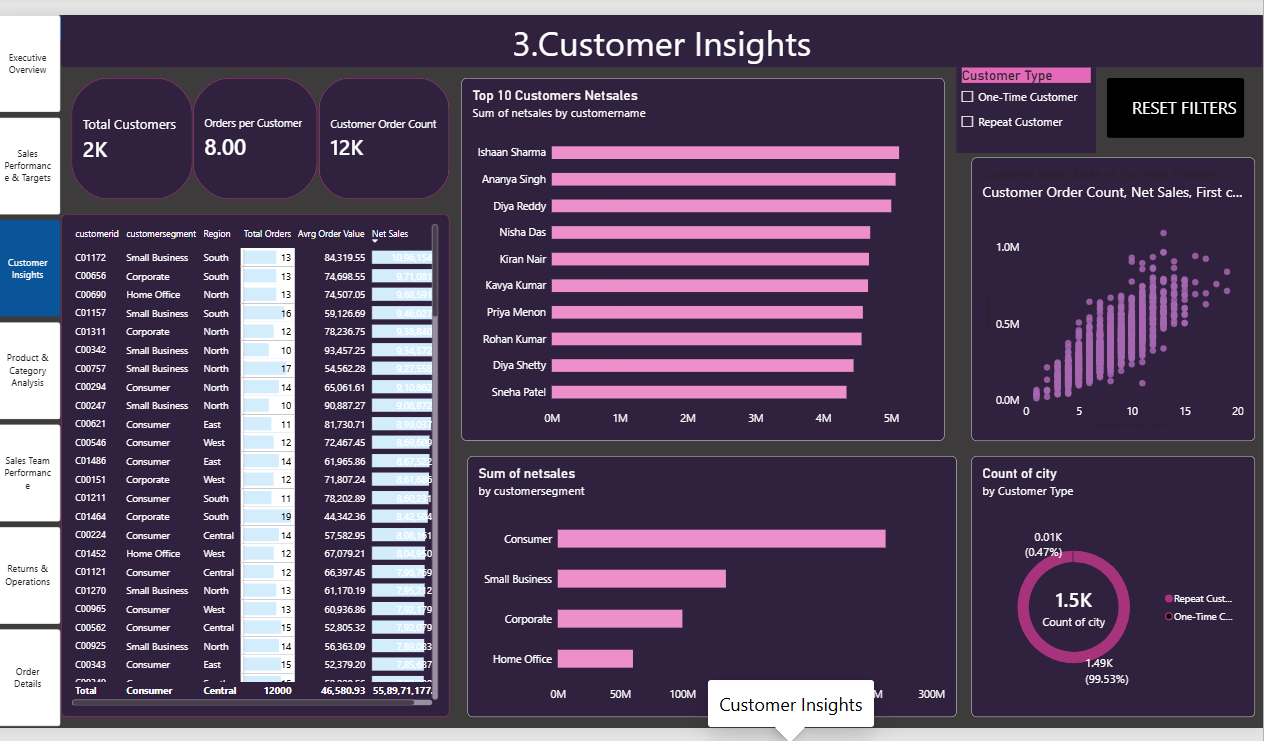

What the dashboard file says about the page in this screenshot:
{"tool":"powerbi","page":{"name":"Customer Insights","canvas":[1920,1080],"ordinal":2},"visuals":[{"type":"cardVisual","fields":{"Data":["Order_items.Total Customers"]},"box":[115.8,95.4,183.7,183.7],"z":0},{"type":"cardVisual","fields":{"Data":["Order_items.Orders per Customer"]},"box":[299.8,95.4,188.4,183.7],"z":1000},{"type":"cardVisual","fields":{"Data":["Order_items.Customer Order Count"]},"box":[490.6,95.4,197.6,183.3],"z":2000},{"type":"clusteredBarChart","fields":{"Category":["Customers.customersegment"],"Y":["Sum(Order_items.netsales)"]},"box":[715.5,667.8,740.5,395.2],"z":3000},{"type":"clusteredBarChart","title":"Top 10 Customers Netsales","fields":{"Category":["Customers.customername"],"Y":["Sum(Order_items.netsales)"]},"box":[706.4,95.4,731.4,549.7],"z":4000},{"type":"actionButton","box":[0,0,99.9,40.9],"z":5000},{"type":"slicer","fields":{"Values":["Customers.Customer Type"]},"box":[1455.9,79.5,211.2,129.5],"z":6000},{"type":"donutChart","fields":{"Category":["Customers.Customer Type"],"Y":["CountNonNull(Customers.city)"]},"box":[1478.6,667.8,429.3,395.2],"z":7000},{"type":"pivotTable","fields":{"Rows":["Customers.customerid"],"Values":["Min(Customers.customersegment)","Min(Customers.region)","Order_items.Total Orders","Order_items.Average Order Value","Order_items.Net Sales"]},"box":[99.9,302.1,588.3,760.9],"z":8000},{"type":"scatterChart","title":"Customer Value: Sales vs Purchase Frequency","fields":{"Category":["Customers.customerid"],"X":["Order_items.Customer Order Count"],"Y":["Order_items.Net Sales"]},"box":[1478.6,215.8,429.3,429.3],"z":9000},{"type":"actionButton","box":[99.9,0,1819.3,79.5],"z":10000},{"type":"actionButton","box":[1683,95.4,209,90.9],"z":10001},{"type":"pageNavigator","box":[0,0,99.9,1078.9],"z":10002}]}

Visuals, with their boxes on the page's 1920x1080 design canvas (x1, y1, x2, y2). These are canvas units, not pixel positions in the 1264x741 screenshot, which may show the page scaled, cropped or inside an application window:
cardVisual - Order_items.Total Customers: select_region(116, 95, 300, 279)
cardVisual - Order_items.Orders per Customer: select_region(300, 95, 488, 279)
cardVisual - Order_items.Customer Order Count: select_region(491, 95, 688, 279)
clusteredBarChart - Customers.customersegment x Sum(Order_items.netsales): select_region(716, 668, 1456, 1063)
"Top 10 Customers Netsales" clusteredBarChart: select_region(706, 95, 1438, 645)
actionButton: select_region(0, 0, 100, 41)
slicer - Customers.Customer Type: select_region(1456, 80, 1667, 209)
donutChart - Customers.Customer Type x CountNonNull(Customers.city): select_region(1479, 668, 1908, 1063)
pivotTable - Customers.customerid x Min(Customers.customersegment): select_region(100, 302, 688, 1063)
"Customer Value: Sales vs Purchase Frequency" scatterChart: select_region(1479, 216, 1908, 645)
actionButton: select_region(100, 0, 1919, 80)
actionButton: select_region(1683, 95, 1892, 186)
pageNavigator: select_region(0, 0, 100, 1079)
